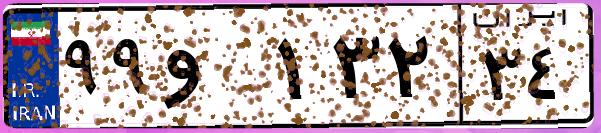1: (270, 28, 330, 110)
2: (385, 28, 445, 110)
3: (330, 28, 385, 110), (475, 38, 525, 113)
4: (525, 38, 570, 115)
9: (57, 26, 110, 100), (110, 28, 158, 98)
و: (158, 20, 270, 120)
